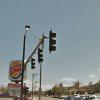Traffic light: (24, 30, 67, 74)
